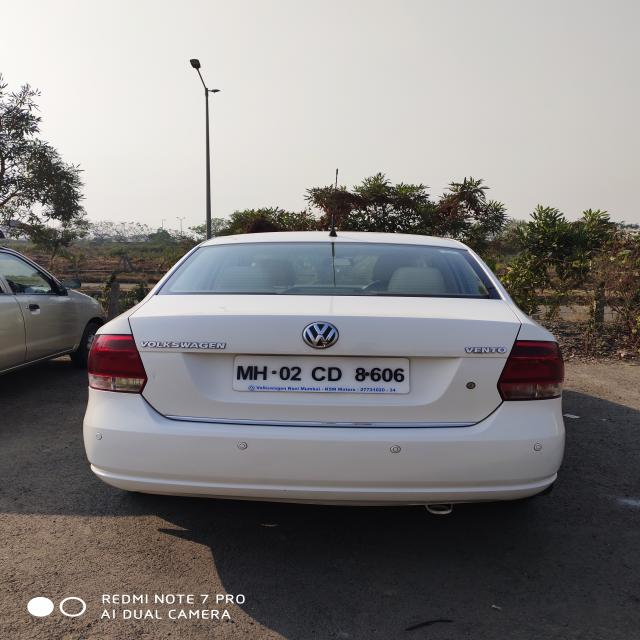Number-Plate: (230, 357, 411, 392)
